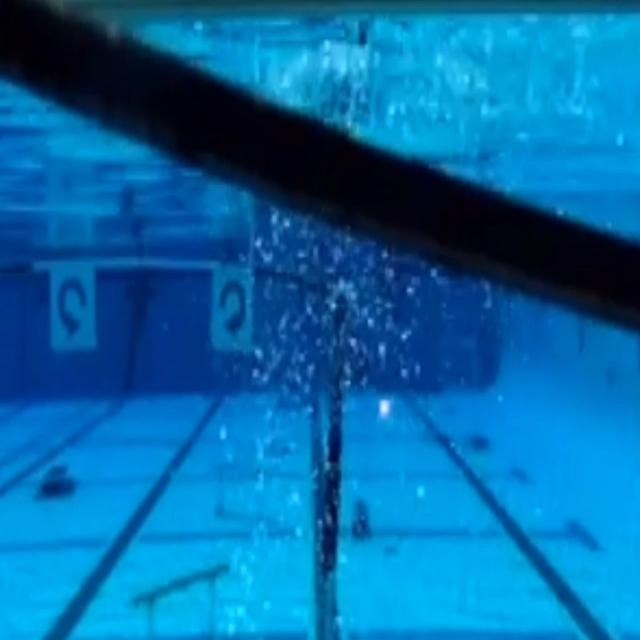Gate: (1, 254, 346, 564)
